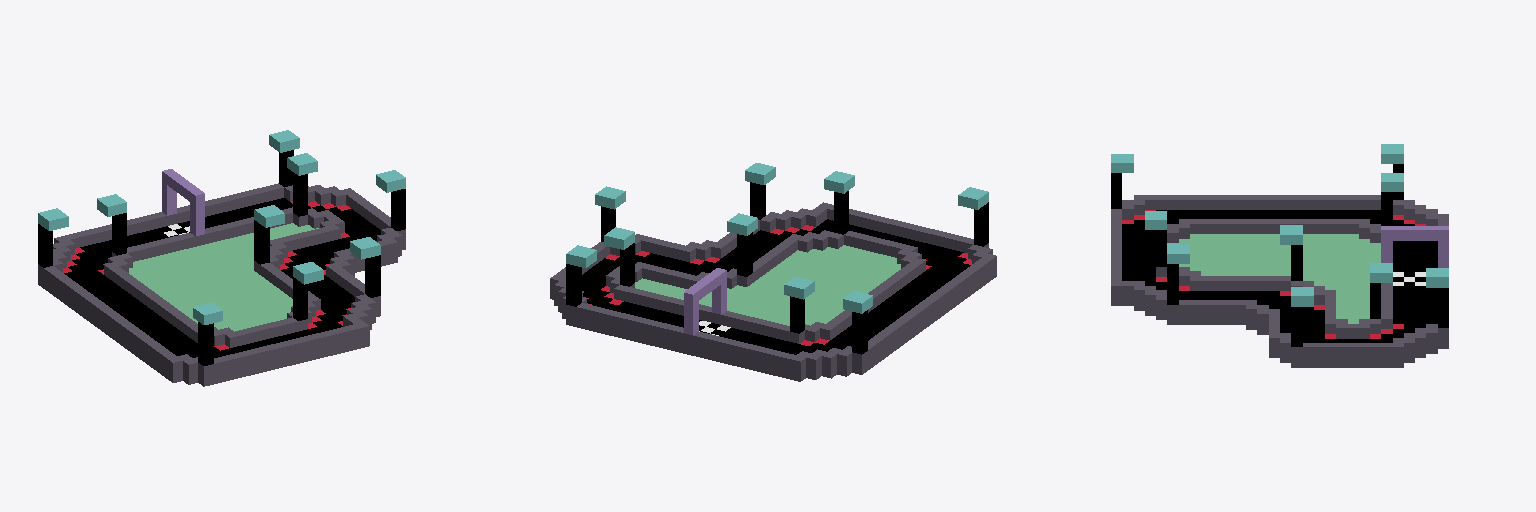
The picture shows the model from 3 angles: view 1: azimuth 30°, elevation 25°; view 2: azimuth 150°, elevation 25°; view 3: azimuth 270°, elevation 25°; orthographic projection.
Parts seen in each view (by area): view 1: Model; view 2: Model; view 3: Model.
Part boxes in pixels (x1,y1,x2,y2): Model: (38, 130, 405, 386); Model: (550, 163, 996, 381); Model: (1111, 144, 1448, 367).
Size of the model in its own units: 32 by 7 by 30.
Materials: 1 (1 with a texture image).